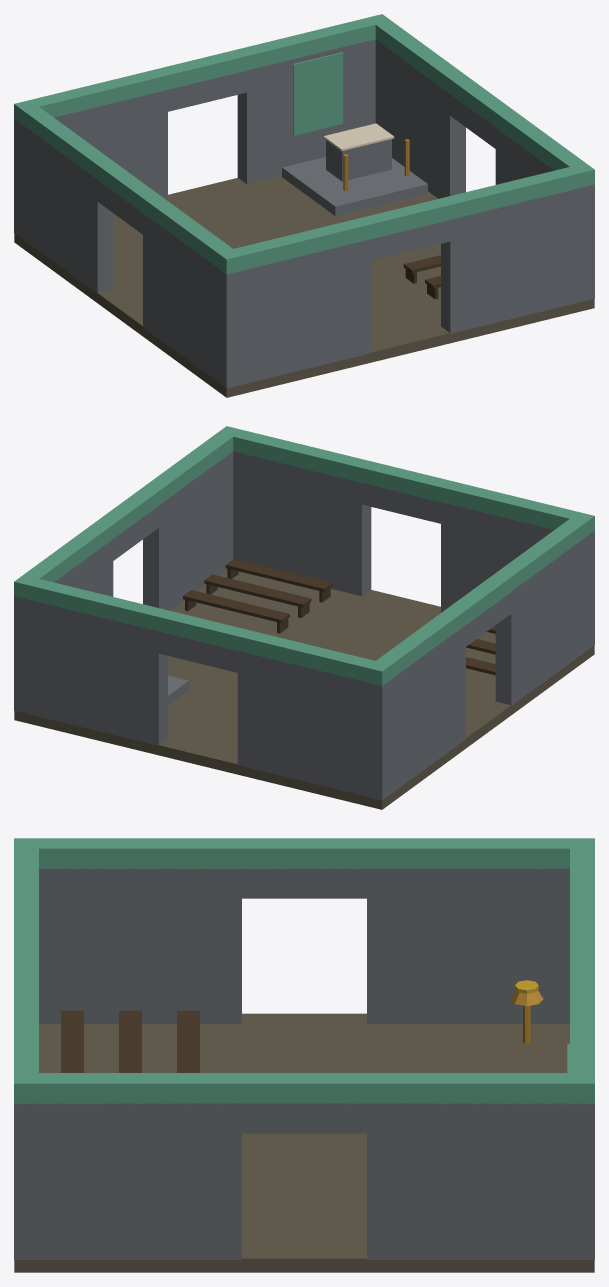
Rendered from ChapelRoom.fbx.
3 renders of one model, top to bottom at view 1: azimuth 30°, elevation 25°; view 2: azimuth 150°, elevation 25°; view 3: azimuth 270°, elevation 25°, orthographic. The views are drawn at different scales.
Visible parts, largest first — view 1: ChapelRoom; view 2: ChapelRoom; view 3: ChapelRoom.
Part boxes in pixels (x1=…): ChapelRoom: x1=14, y1=14, x2=594, y2=397; ChapelRoom: x1=14, y1=426, x2=594, y2=809; ChapelRoom: x1=14, y1=838, x2=594, y2=1272.
Bounding box in the file's own units: 1202 × 432 × 1202.
Materials: 7 (7 with a texture image).
